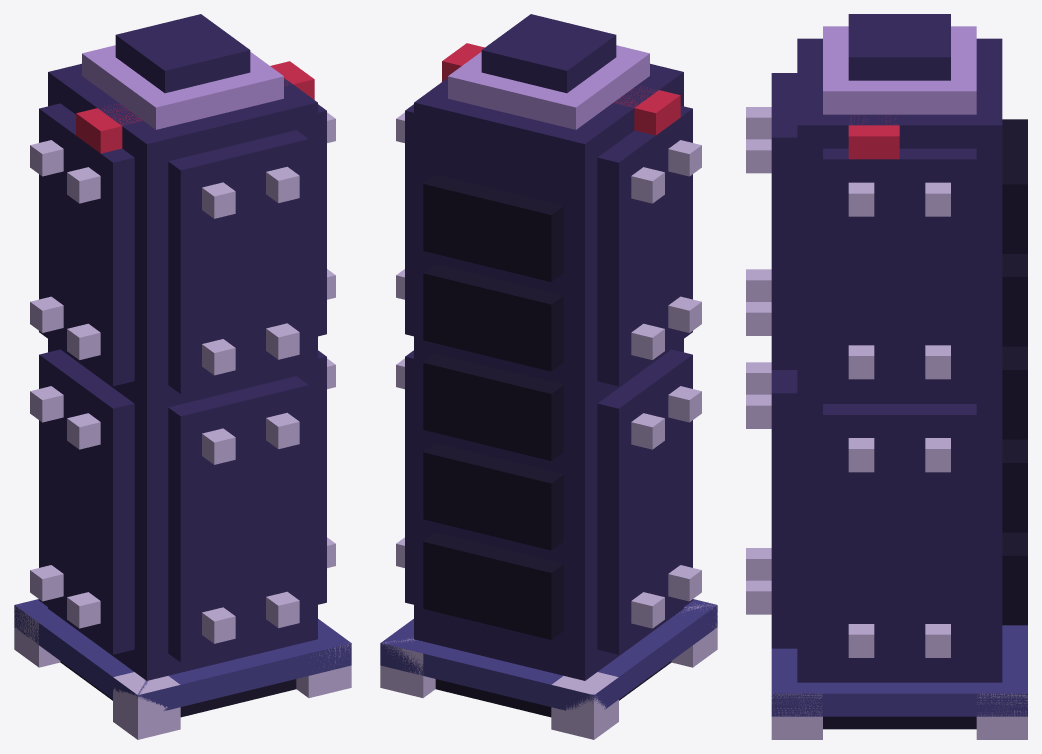
Rendered from computer-core.md.glb.
3 renders of one model, left to right at view 1: azimuth 30°, elevation 25°; view 2: azimuth 150°, elevation 25°; view 3: azimuth 270°, elevation 25°, orthographic. The views are drawn at different scales.
Visible parts, largest first — view 1: computer-core.md; view 2: computer-core.md; view 3: computer-core.md.
Part boxes in pixels (box(x1,y1,x2,y2)): computer-core.md: box(14, 14, 351, 739); computer-core.md: box(380, 14, 717, 739); computer-core.md: box(746, 14, 1027, 739).
Size of the model in its own units: 0.75 by 1.75 by 0.6875.
